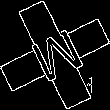M_SE: (23, 22, 87, 88)
